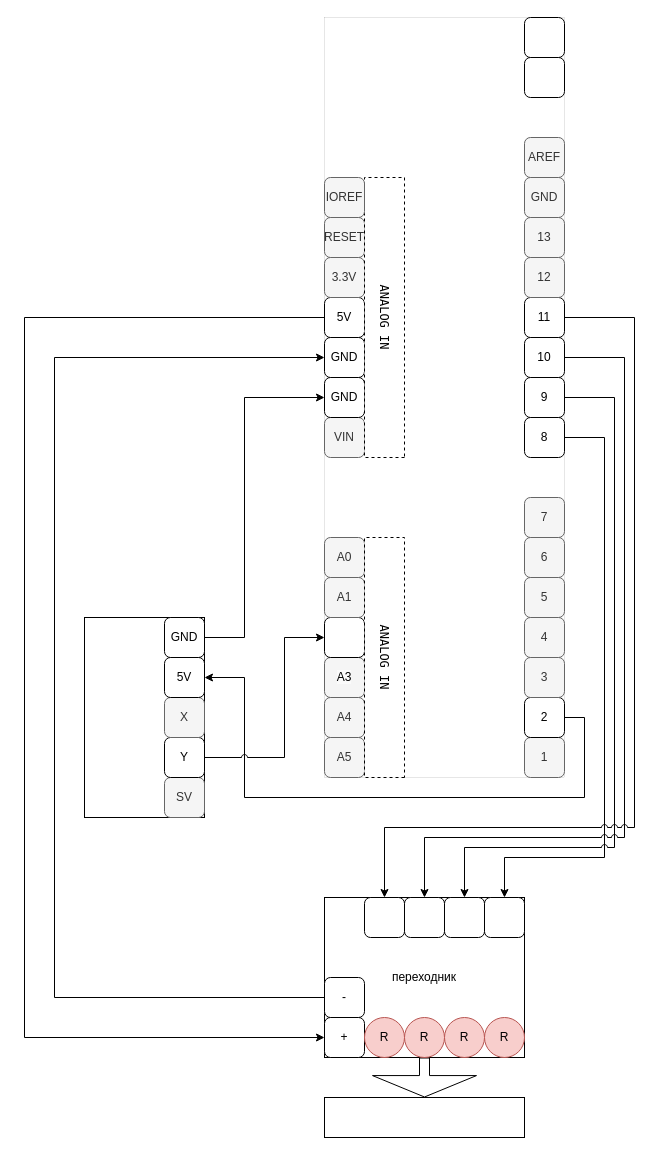
Image size: 660x1155. Some labels were removed from this diagram. Here are the shapes that lost their labels. From the top down, the box of each, then its label:
(324, 616, 364, 658): A2
(84, 616, 204, 818): джойстик
(364, 896, 404, 938): IN4
(404, 896, 444, 938): IN3
(444, 896, 484, 938): IN2
(484, 896, 524, 938): IN1
(324, 1096, 524, 1138): тактовый двигатель
